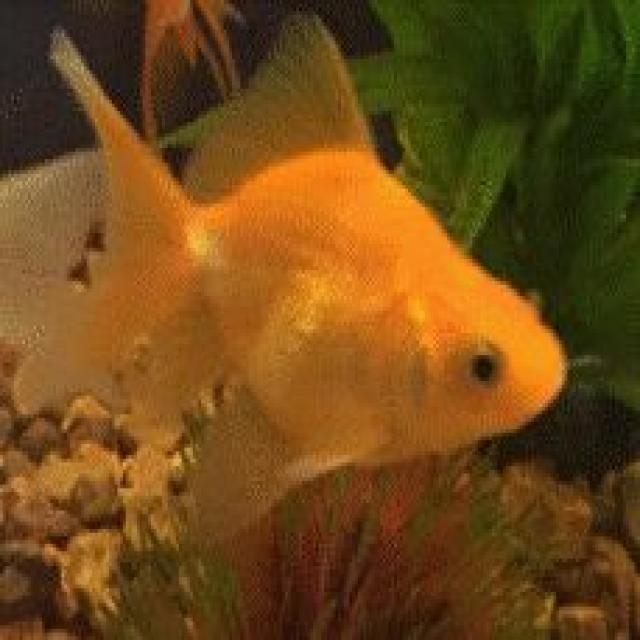Gold-Fish: (38, 0, 640, 562)
